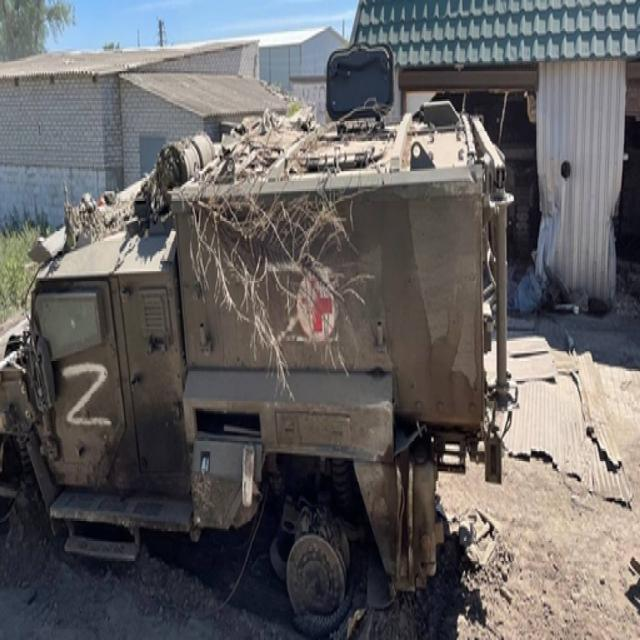CAR: (0, 91, 511, 627)
